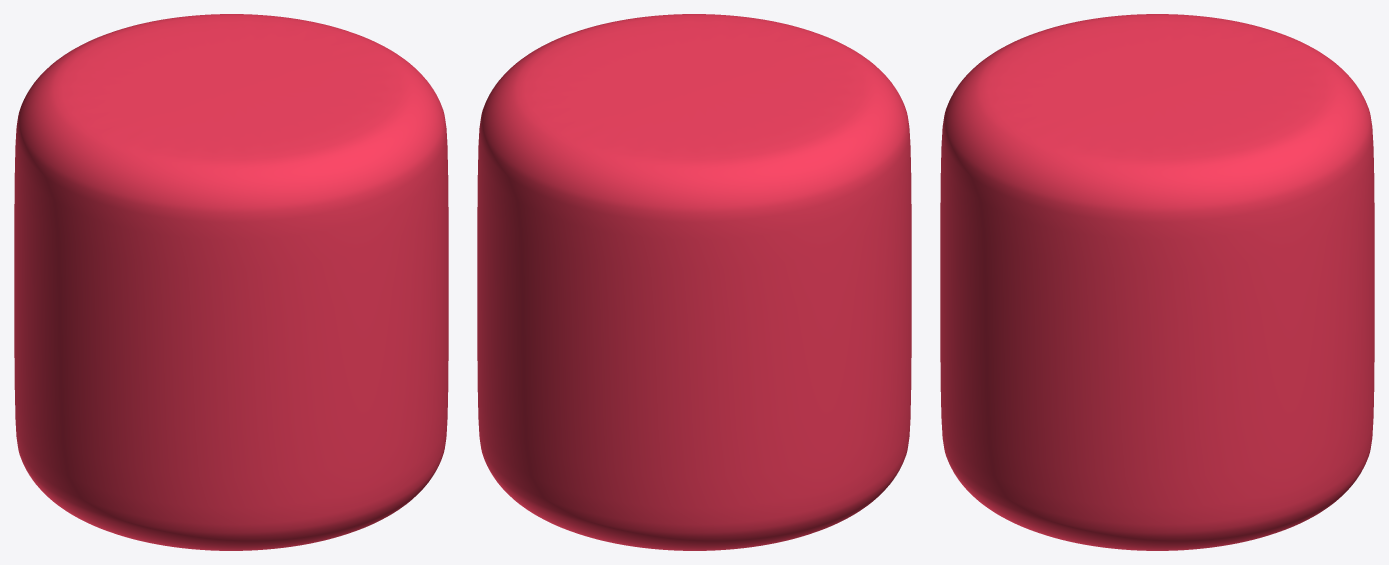
Rendered from bodypart_red.obj.
3 renders of one model, left to right at view 1: azimuth 30°, elevation 25°; view 2: azimuth 150°, elevation 25°; view 3: azimuth 270°, elevation 25°, orthographic.
Parts seen in each view (by area): view 1: Cube_Cube_Material; view 2: Cube_Cube_Material; view 3: Cube_Cube_Material.
Boxes of the visible parts, x1,y1,x2,y2 form: Cube_Cube_Material: (14, 14, 448, 550); Cube_Cube_Material: (477, 14, 911, 550); Cube_Cube_Material: (940, 14, 1374, 550).
Size of the model in its own units: 1.99 by 1.98 by 1.99.
1 material, 1 textured.
